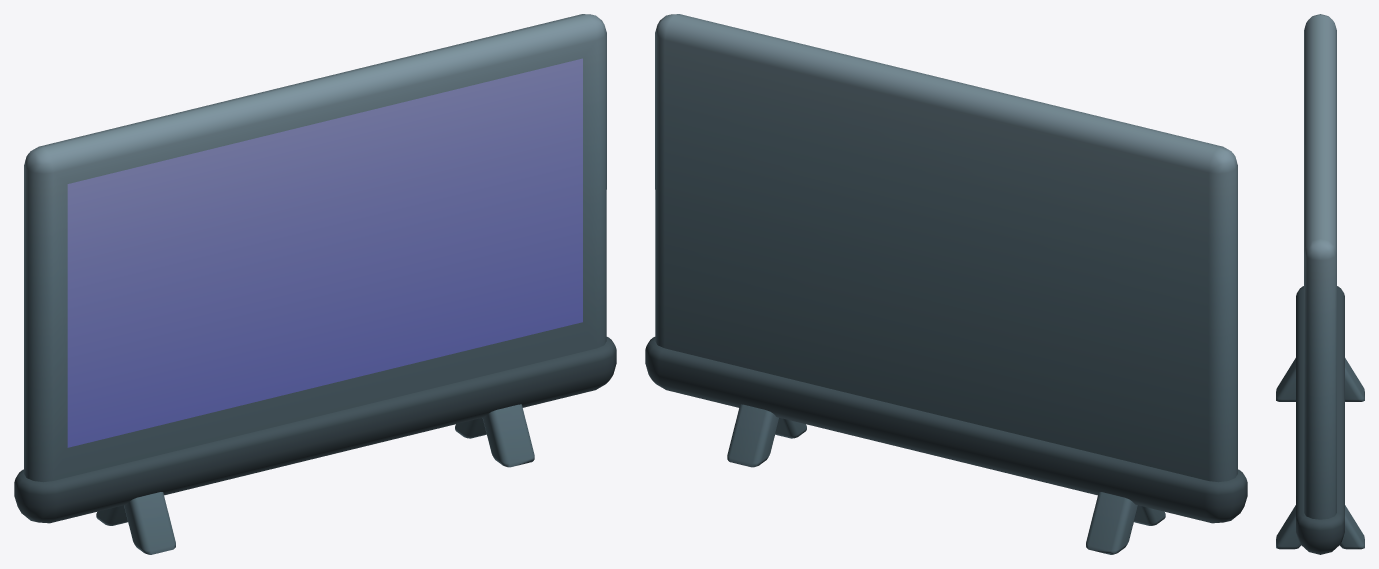
3 renders of one model, left to right at view 1: azimuth 30°, elevation 25°; view 2: azimuth 150°, elevation 25°; view 3: azimuth 270°, elevation 25°, orthographic. The views are drawn at different scales.
Parts seen in each view (by area): view 1: TV_07; view 2: TV_07; view 3: TV_07.
Boxes of the visible parts, x1=… form: TV_07: x1=14, y1=14, x2=616, y2=554; TV_07: x1=645, y1=14, x2=1247, y2=554; TV_07: x1=1276, y1=14, x2=1364, y2=554.
Bounding box in the file's own units: 1.05 × 0.69 × 0.1614.
1 material, 1 textured.
